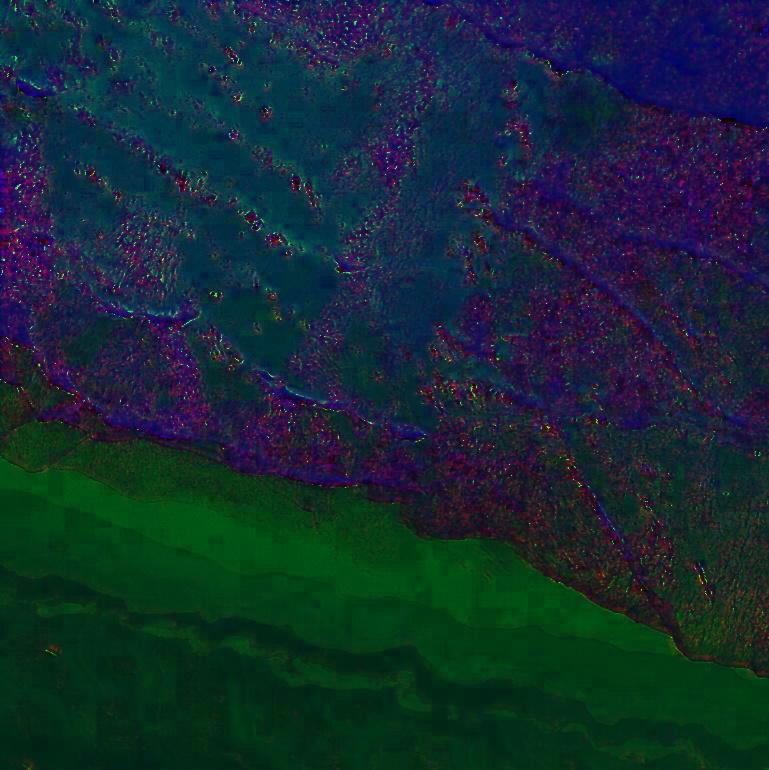rip_current: (324, 18, 600, 454)
